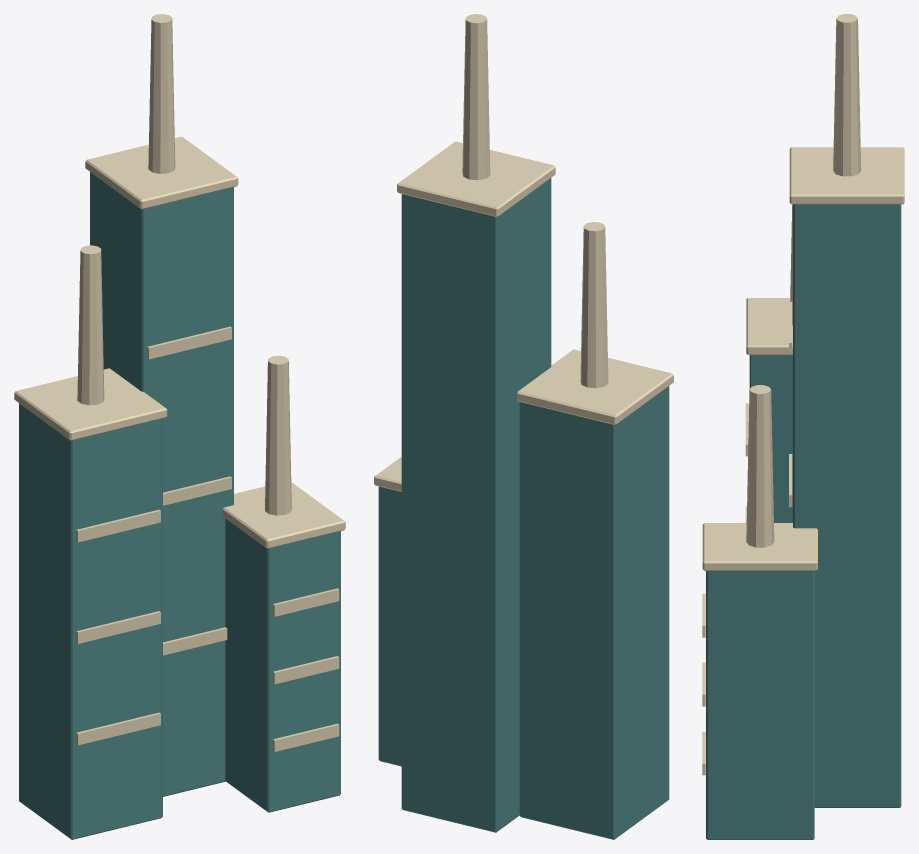
Rendered from hsc3_far_factory_14m.glb.
The picture shows the model from 3 angles, left to right: view 1: azimuth 30°, elevation 25°; view 2: azimuth 150°, elevation 25°; view 3: azimuth 270°, elevation 25°; orthographic projection. The views are drawn at different scales.
Visible parts, largest first — view 1: hsc3_far_factory_14m__hsc3-deep-teal, hsc3_far_factory_14m__hsc3-cream-enamel; view 2: hsc3_far_factory_14m__hsc3-deep-teal, hsc3_far_factory_14m__hsc3-cream-enamel; view 3: hsc3_far_factory_14m__hsc3-deep-teal, hsc3_far_factory_14m__hsc3-cream-enamel.
Boxes of the visible parts, box(x1,y1,x2,y2) form: hsc3_far_factory_14m__hsc3-deep-teal: box(19, 172, 340, 839); hsc3_far_factory_14m__hsc3-cream-enamel: box(14, 14, 345, 751); hsc3_far_factory_14m__hsc3-deep-teal: box(378, 178, 669, 839); hsc3_far_factory_14m__hsc3-cream-enamel: box(374, 14, 673, 491); hsc3_far_factory_14m__hsc3-deep-teal: box(706, 204, 901, 839); hsc3_far_factory_14m__hsc3-cream-enamel: box(702, 14, 904, 775).
Size of the model in its own units: 13.8 by 39 by 9.32.
